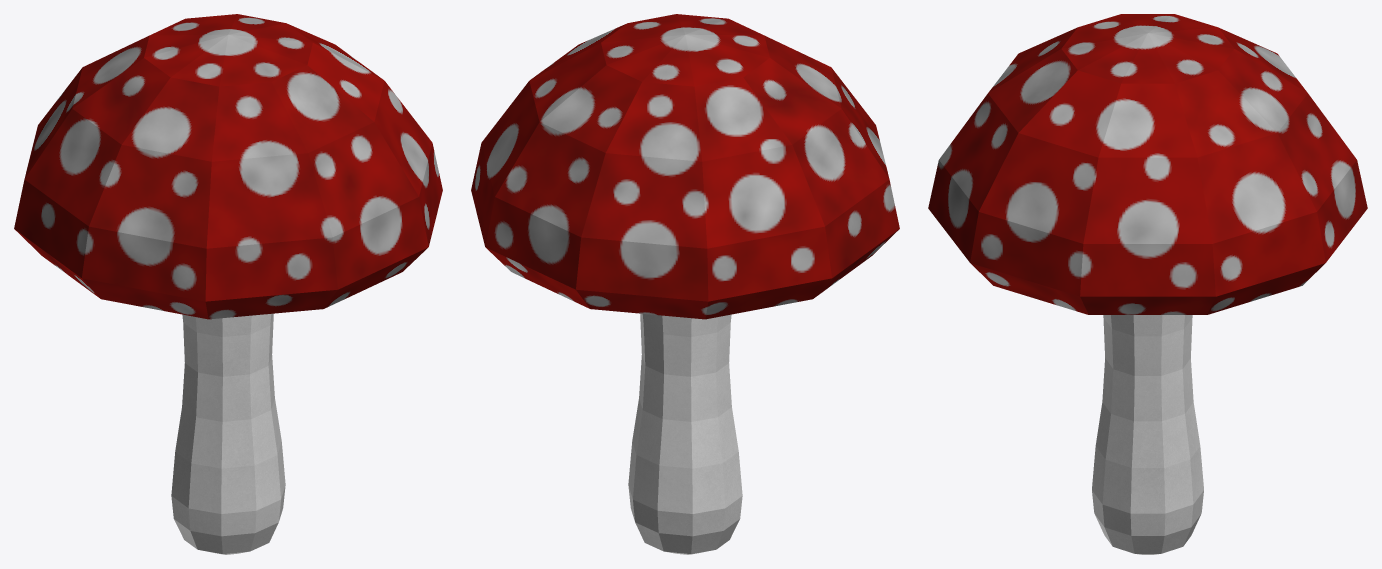
The model's file is Sewer_Mushroom.fbx.
The picture shows the model from 3 angles, left to right: view 1: azimuth 30°, elevation 25°; view 2: azimuth 150°, elevation 25°; view 3: azimuth 270°, elevation 25°; orthographic projection.
Visible parts, largest first — view 1: Sewer_Mushroom_1; view 2: Sewer_Mushroom_1; view 3: Sewer_Mushroom_1.
Boxes of the visible parts, x1,y1,x2,y2 form: Sewer_Mushroom_1: [14, 14, 442, 554]; Sewer_Mushroom_1: [471, 14, 899, 554]; Sewer_Mushroom_1: [928, 14, 1367, 554].
Size of the model in its own units: 52.34 by 71.03 by 55.04.
2 materials, 2 textured.
